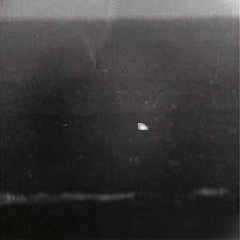Target: (137, 122, 149, 131)
